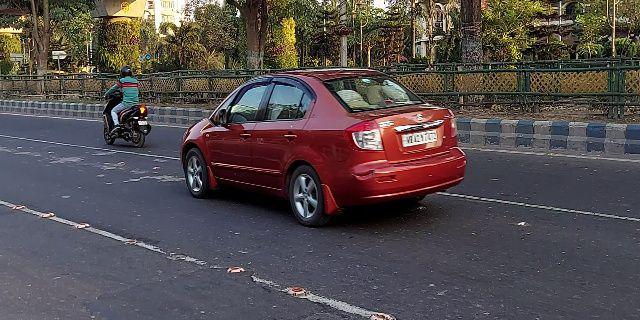Car: (178, 67, 470, 228)
Motorbike: (98, 62, 153, 156)
